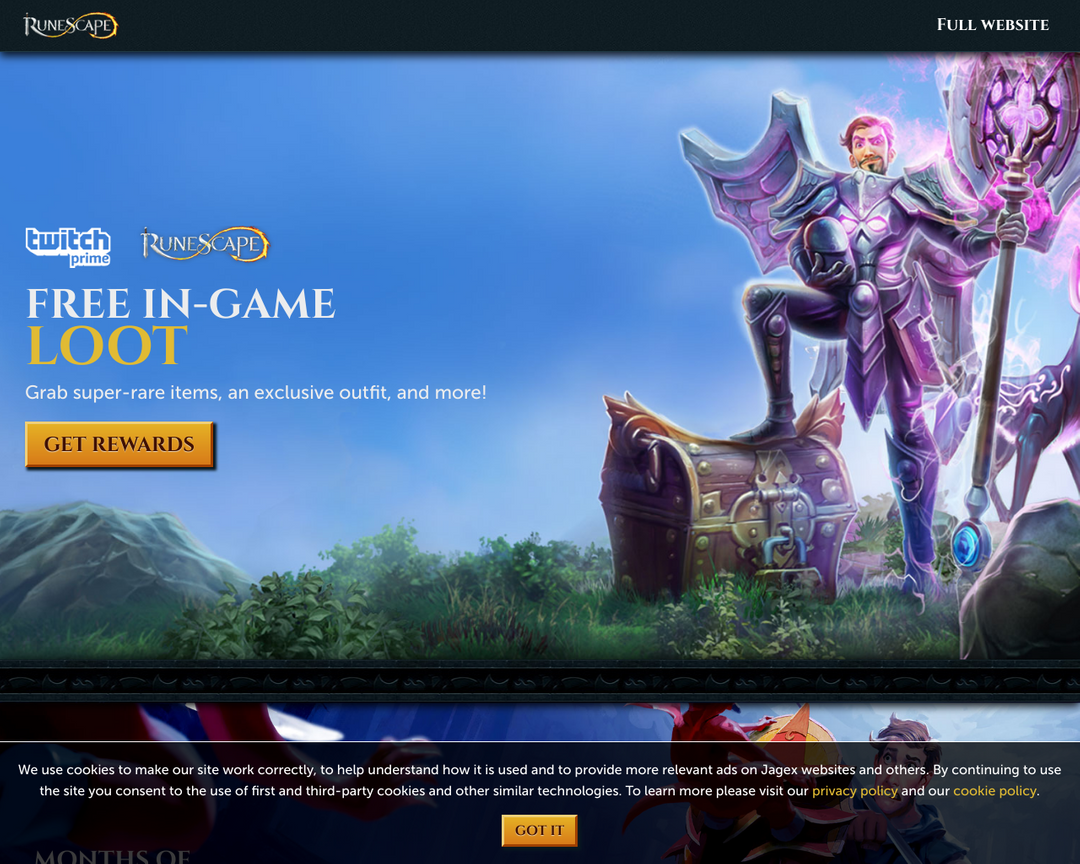Runescape: (17, 10, 123, 43)
